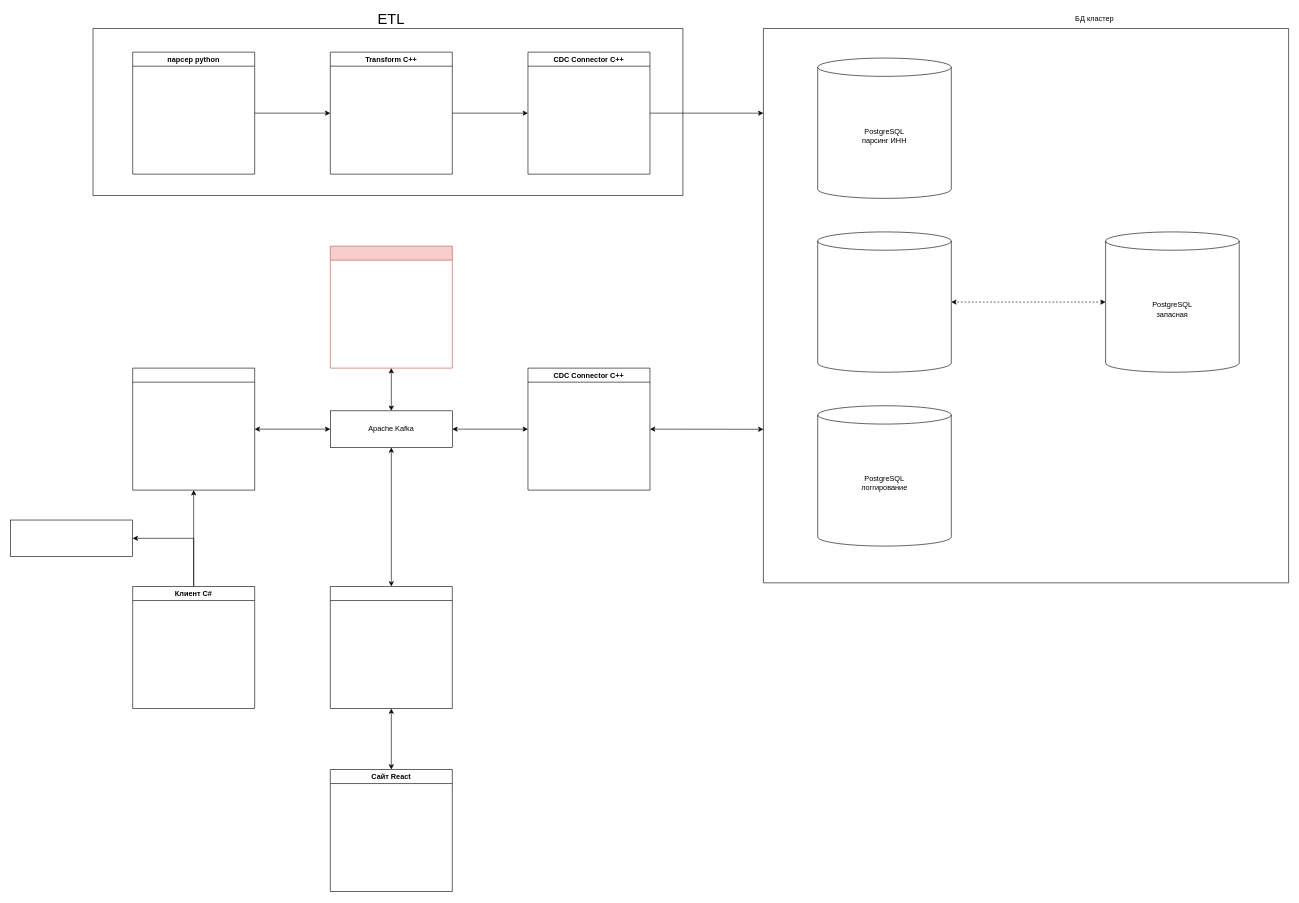
This 1299x903 diagram has some shape labels left out. The shapes that lost their labels are listed below. From the top down, each one's centre as x and y in pixels, then its label:
the point at 391,307: Мониторинг Rust
the point at 884,301: PostgreSQL главная
the point at 193,429: Сервер C++
the point at 71,538: Redis
the point at 391,647: API NodeJS
